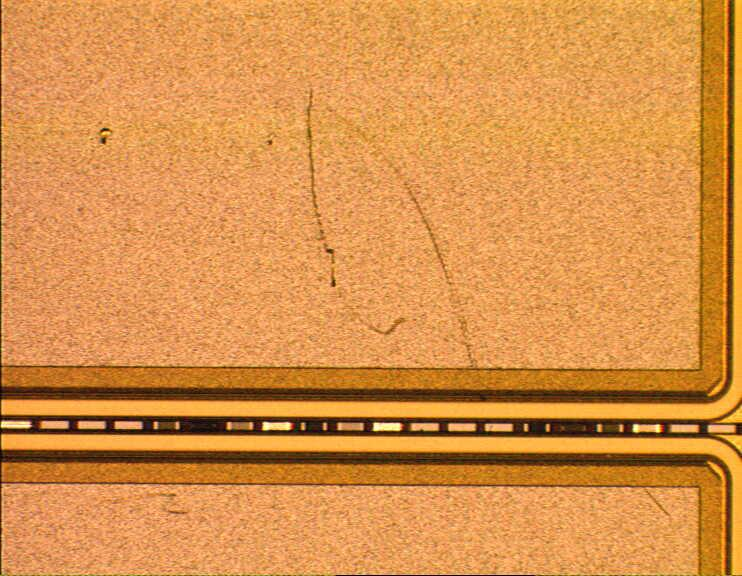SCRATCH: (95, 82, 684, 530)
